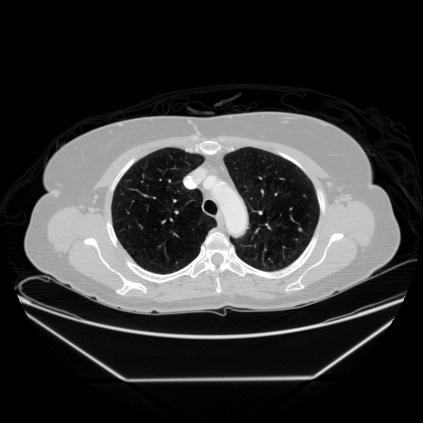nodule: (298, 227, 302, 231)
